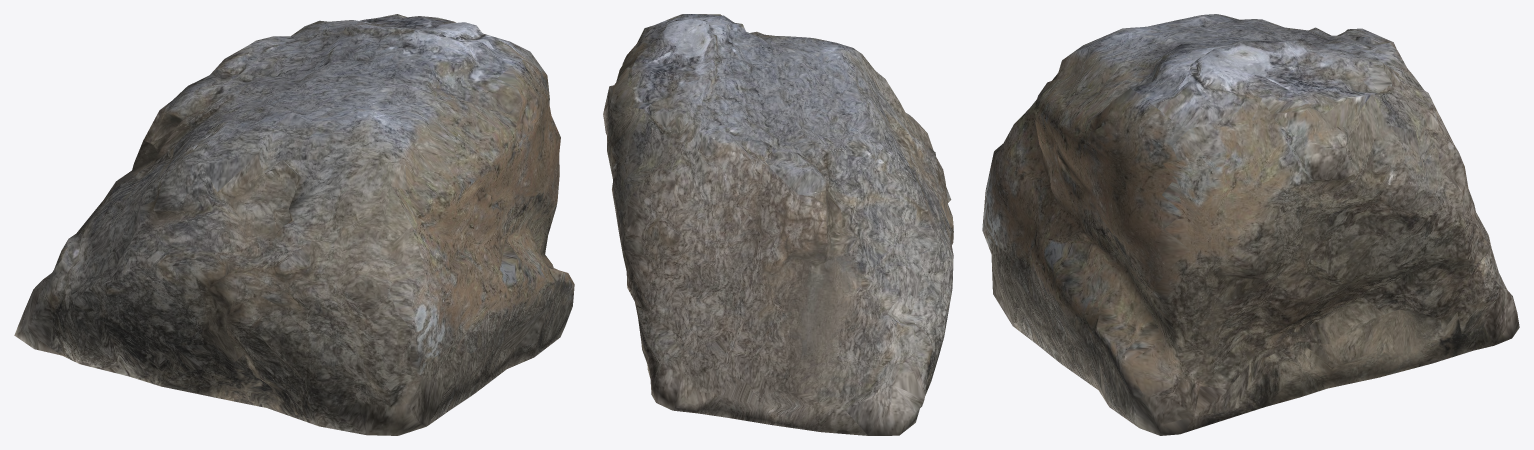
Rendered from boulder_c_lod1.glb.
The picture shows the model from 3 angles, left to right: view 1: azimuth 30°, elevation 25°; view 2: azimuth 150°, elevation 25°; view 3: azimuth 270°, elevation 25°; orthographic projection. The views are drawn at different scales.
Parts seen in each view (by area): view 1: boulder_c_lod1; view 2: boulder_c_lod1; view 3: boulder_c_lod1.
Part boxes in pixels (x1,y1,x2,y2): boulder_c_lod1: (14, 14, 574, 435); boulder_c_lod1: (603, 14, 953, 435); boulder_c_lod1: (982, 14, 1519, 435).
Size of the model in its own units: 3 by 2.03 by 2.97.
1 material, 1 textured.
